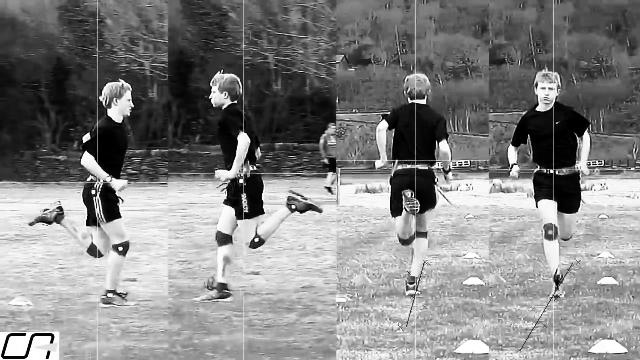berlari: (194, 68, 326, 300), (30, 77, 146, 309), (504, 60, 600, 306), (369, 70, 456, 294)
